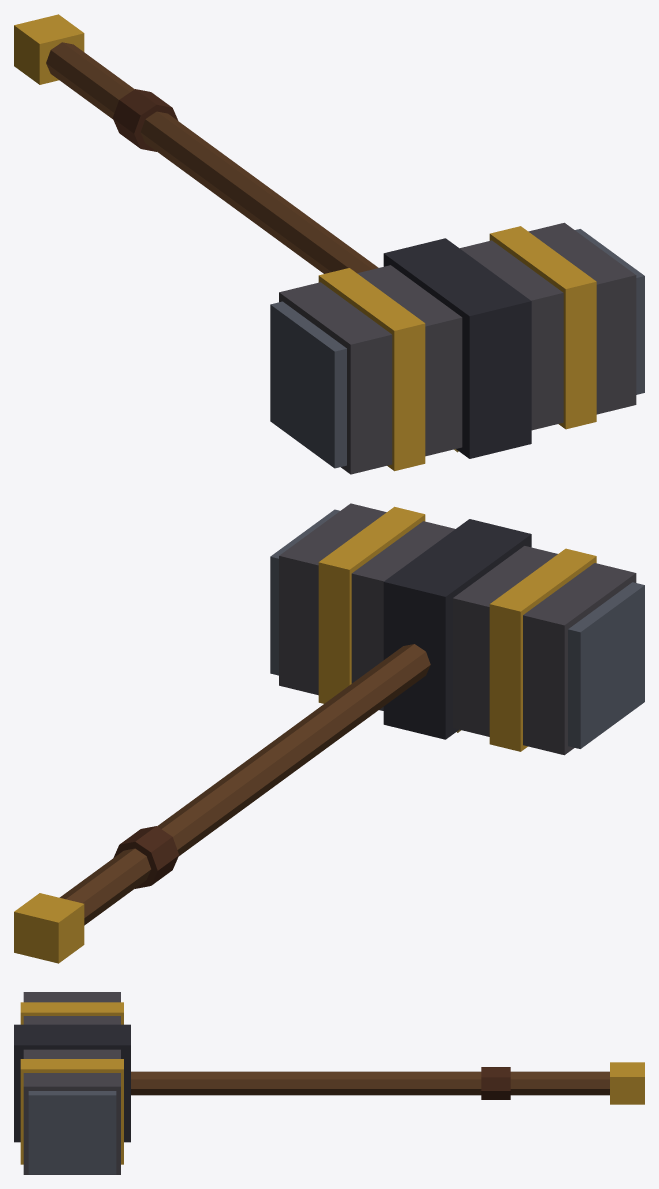
File: 09_Warhammer.glb
3 renders of one model, top to bottom at view 1: azimuth 30°, elevation 25°; view 2: azimuth 150°, elevation 25°; view 3: azimuth 270°, elevation 25°, orthographic. The views are drawn at different scales.
Visible parts, largest first — view 1: 09_Warhammer; view 2: 09_Warhammer; view 3: 09_Warhammer.
Part boxes in pixels (x1,y1,x2,y2): 09_Warhammer: [14, 14, 644, 474]; 09_Warhammer: [14, 503, 644, 963]; 09_Warhammer: [14, 992, 644, 1174].
Size of the model in its own units: 0.5 by 0.27 by 1.3.
